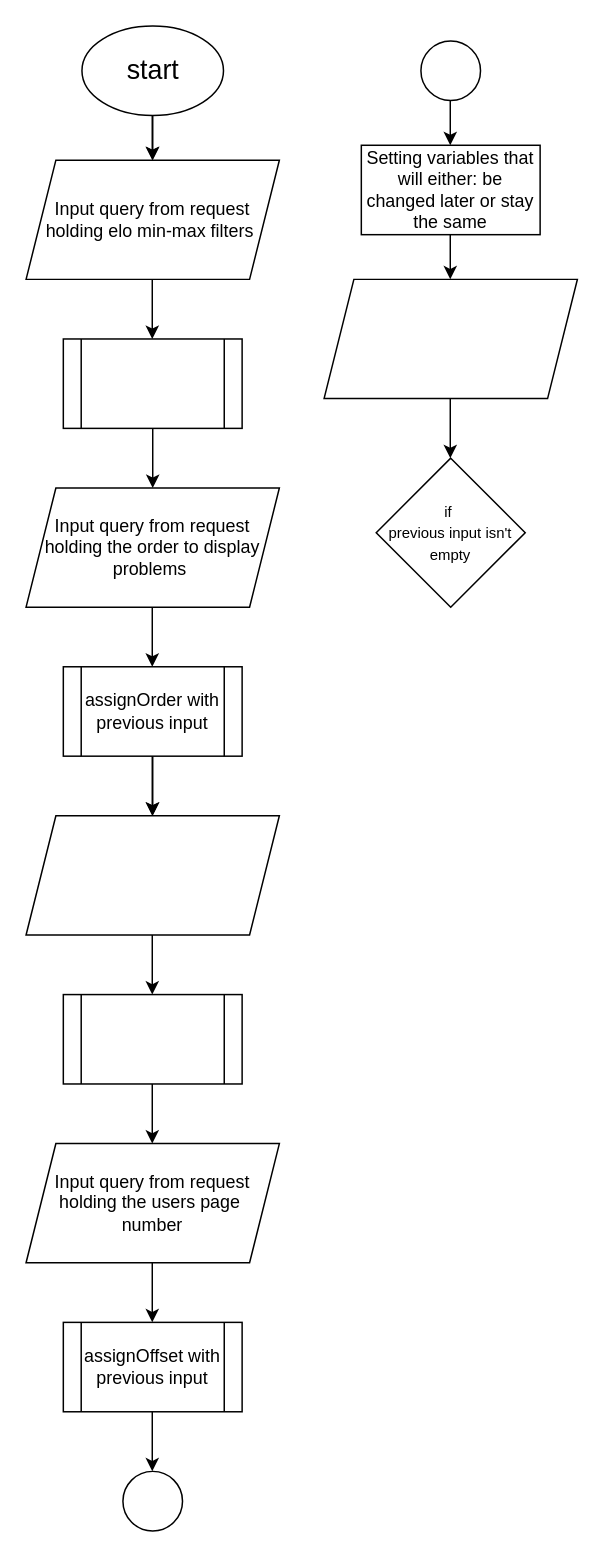
Image size: 603x1557. Some labels were removed from this diagram. The shapes that lost their labels are listed below. From the top down, each one's box as (x1, y1, x2, y2) in pixels, then its label:
(323, 278, 577, 399): Input query from request holding search query
(62, 337, 242, 428): assignFilters with previous inputs
(25, 814, 279, 935): Input query from request holding the sort to display problems by
(62, 993, 242, 1084): assignSort with previous input
